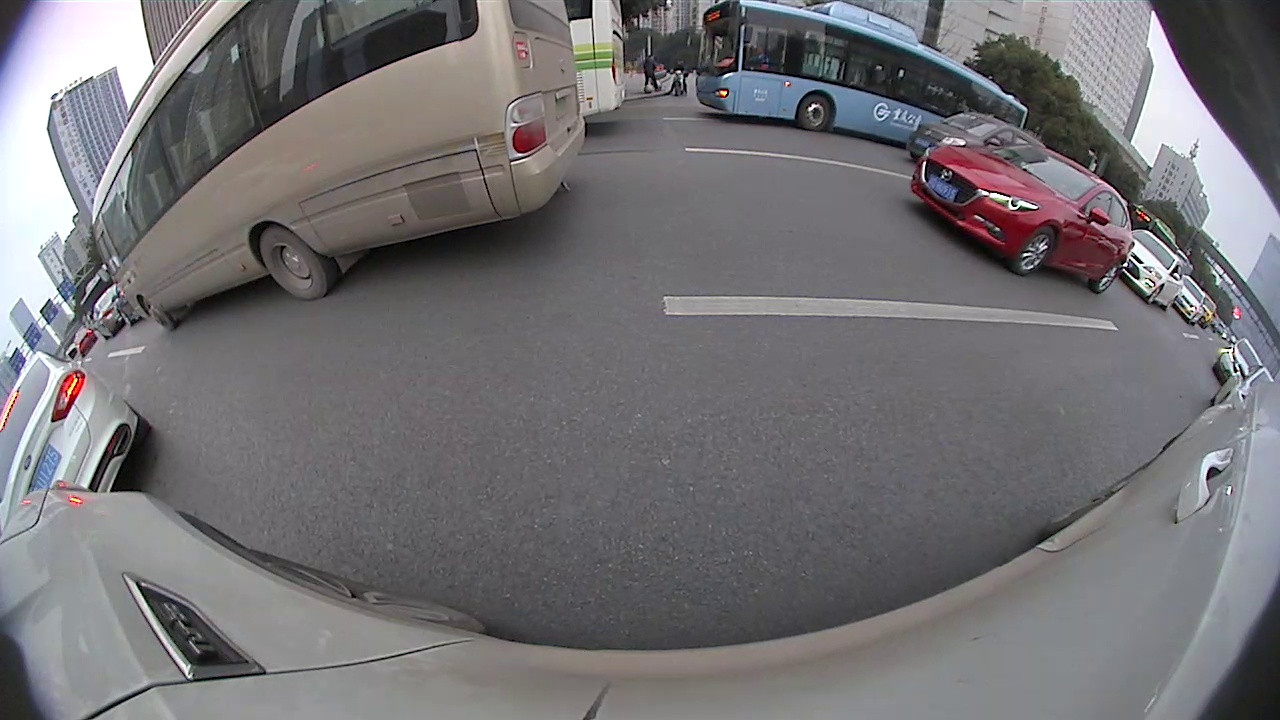bus: (98, 1, 585, 331), (695, 1, 1015, 140), (572, 2, 628, 116)
car: (913, 144, 1127, 291), (1, 353, 155, 533), (913, 110, 1037, 165), (1106, 230, 1187, 313)
front: (1014, 223, 1058, 277), (796, 92, 835, 133), (140, 296, 175, 335), (1147, 285, 1163, 304)
rear: (258, 224, 334, 305), (1095, 263, 1120, 293)
